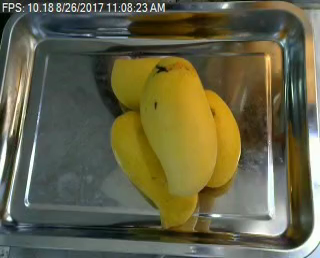Mango: (107, 110, 201, 231), (141, 58, 219, 197), (195, 81, 245, 196), (108, 54, 173, 108)
